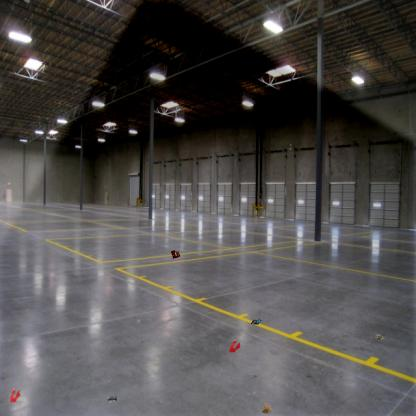dirty: (260, 402, 274, 415), (168, 248, 183, 260), (248, 317, 262, 328), (107, 394, 117, 402), (374, 334, 385, 341)
liquid: (8, 386, 21, 402), (229, 338, 240, 352)
